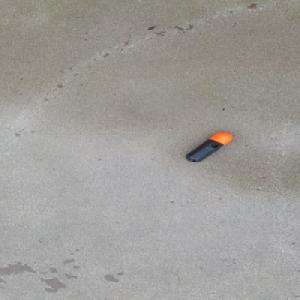PlasticPart: (184, 131, 233, 163)
